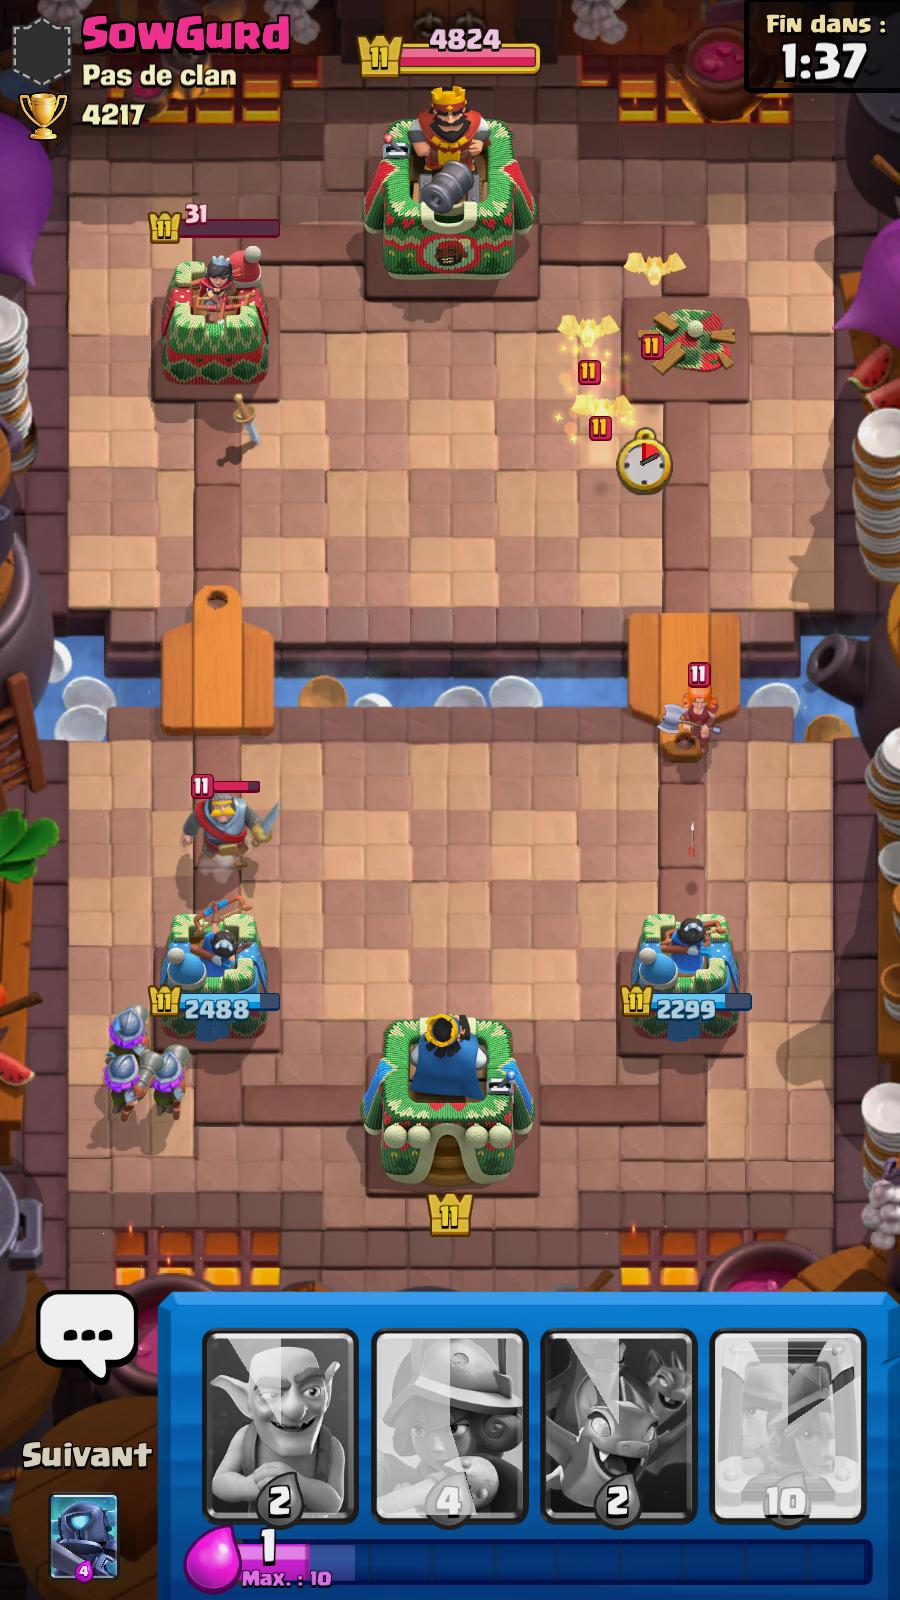bat: (556, 314, 618, 352), (623, 252, 688, 287), (577, 397, 633, 431)
chevalier: (188, 770, 279, 875)
mousquetaire: (107, 1052, 157, 1121), (156, 1042, 192, 1114), (114, 1005, 146, 1060)
valkyrie: (656, 658, 722, 746)
